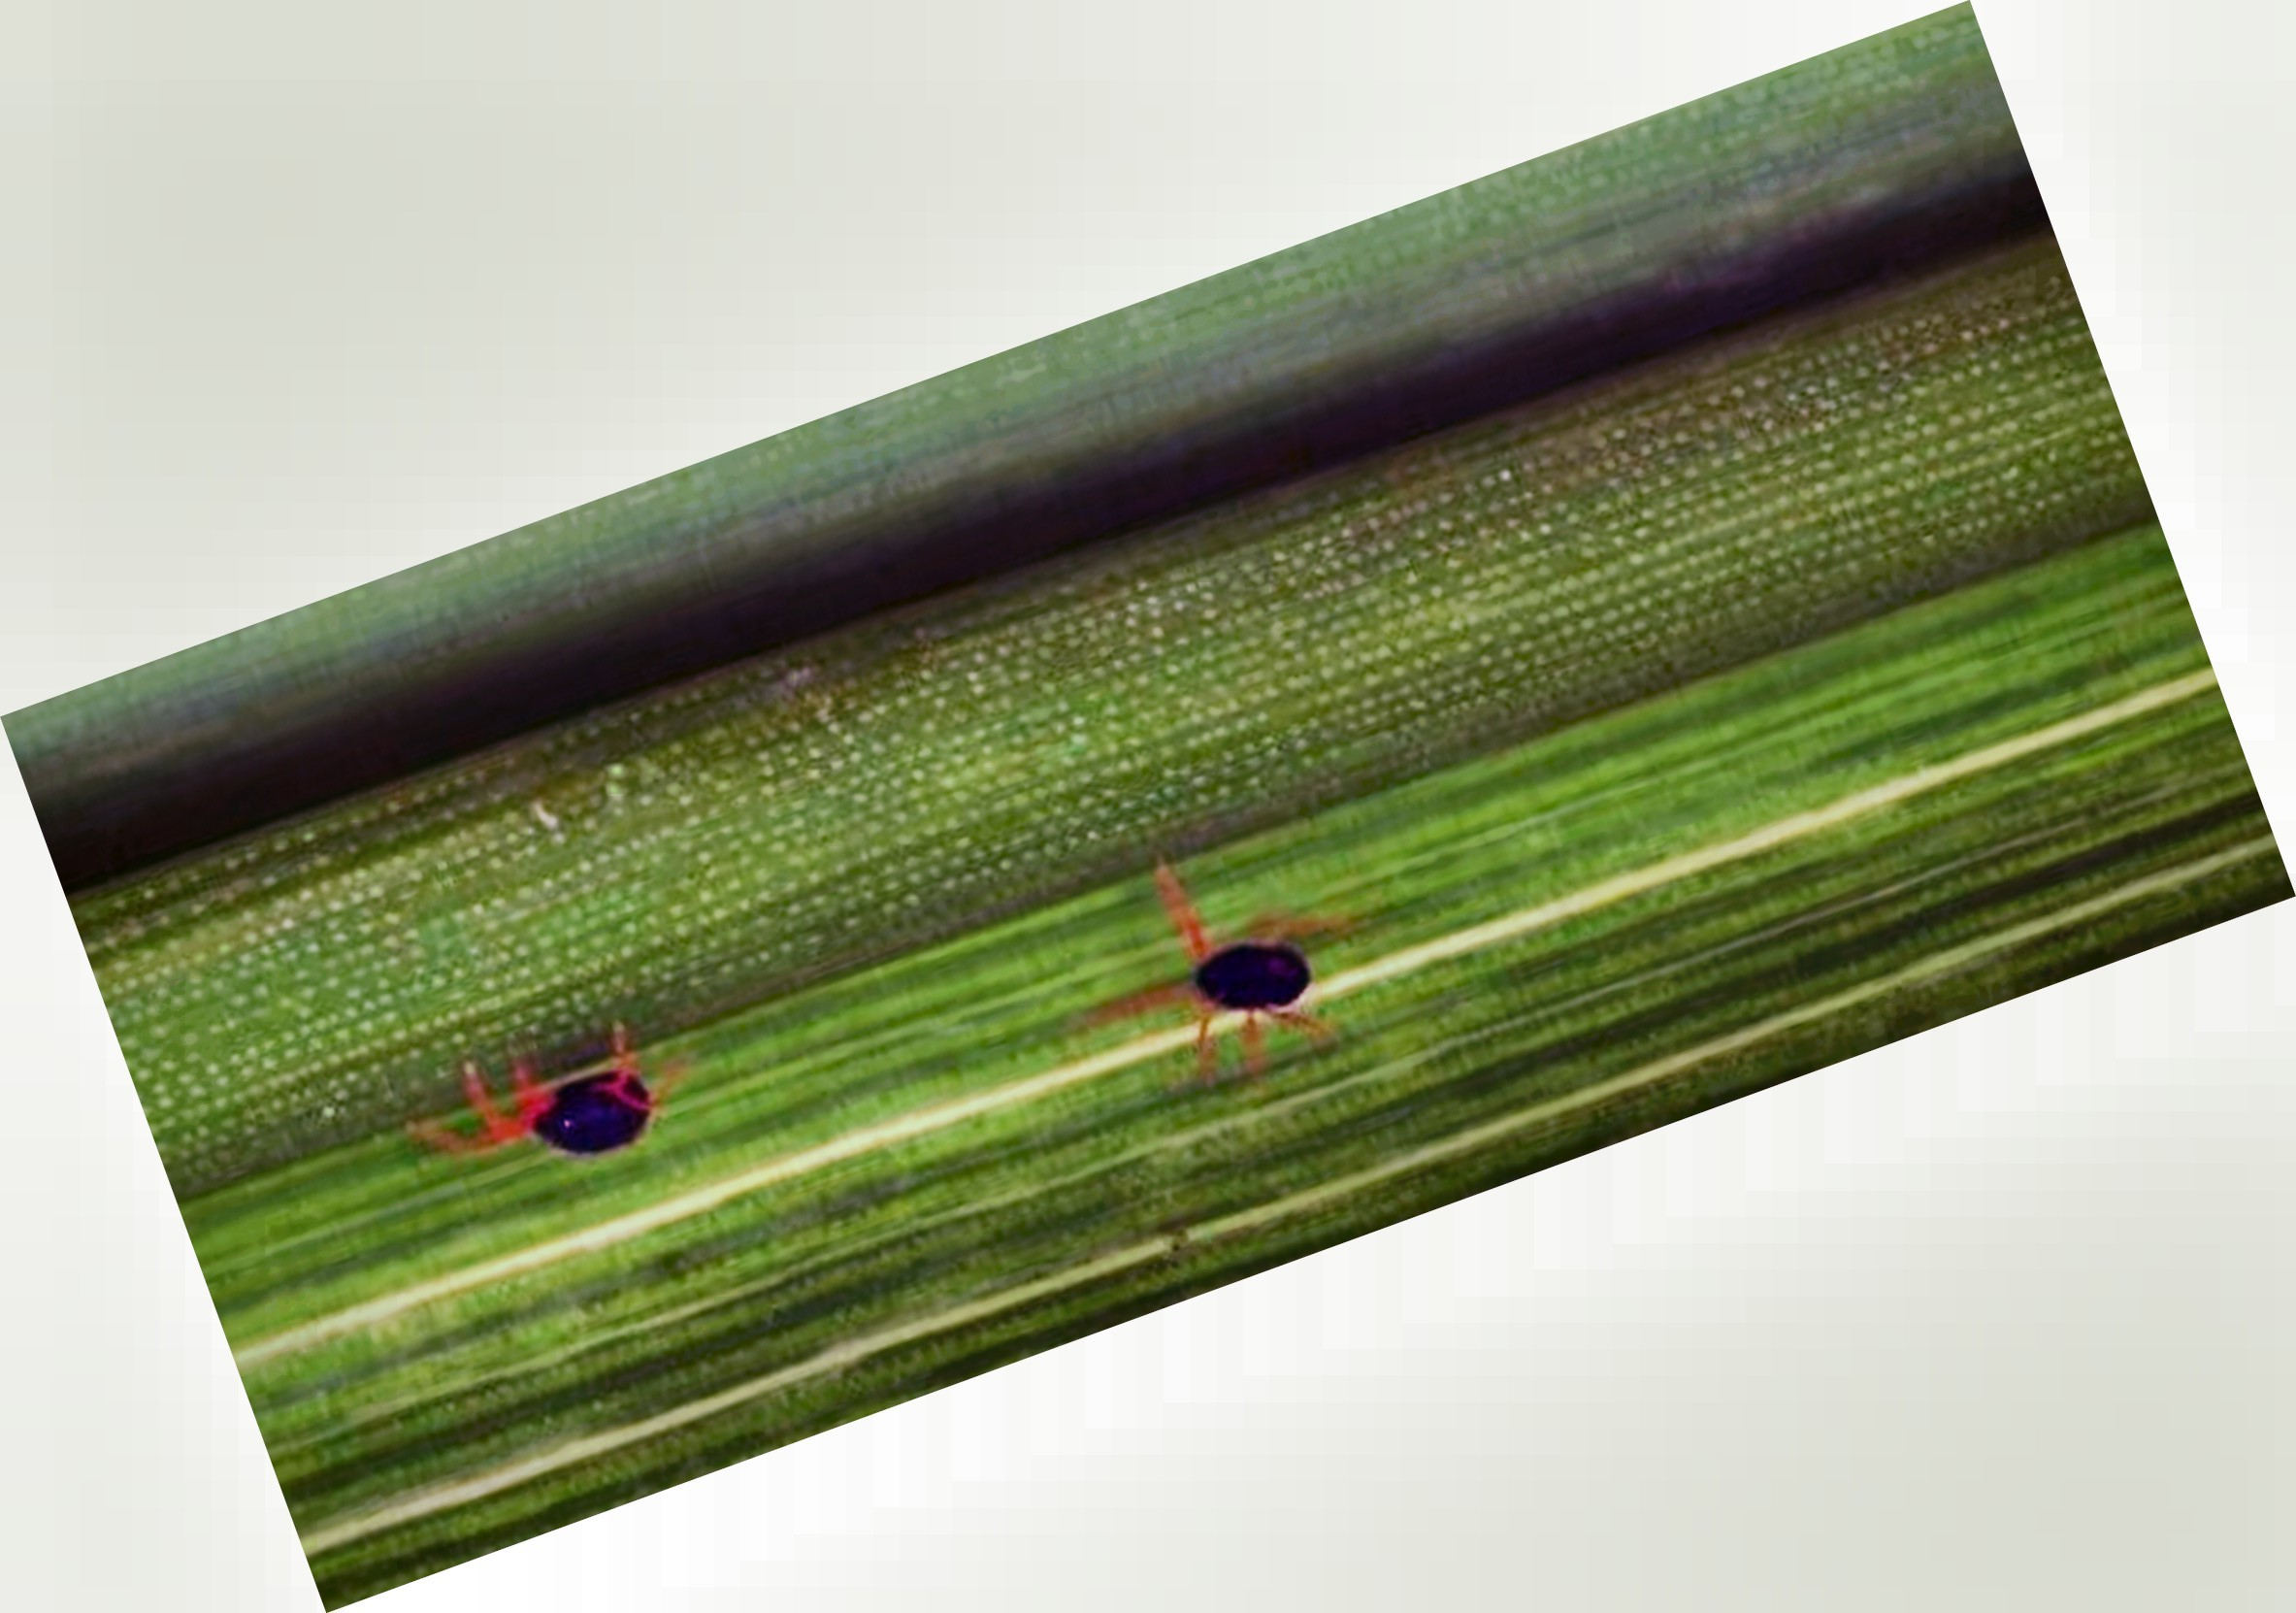Wheat Red Spider: (401, 1009, 693, 1205)
